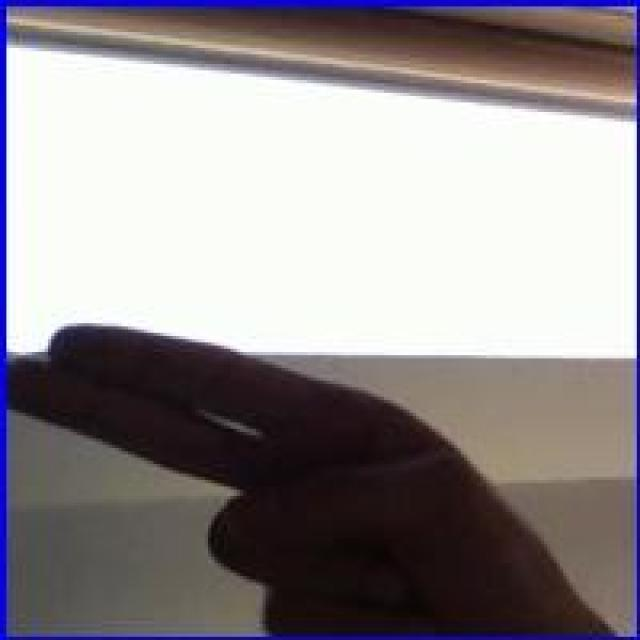H: (12, 314, 574, 634)
